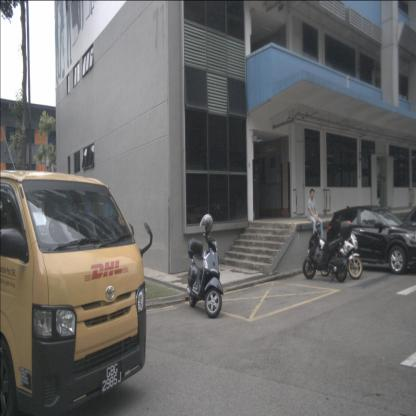human-pedestrian-adult: (307, 188, 325, 242)
vehicle-car: (326, 205, 416, 276)
vehicle-motorcycle: (186, 213, 224, 319), (302, 220, 352, 283), (315, 228, 363, 280)
vehicle-truck: (0, 169, 148, 415)
